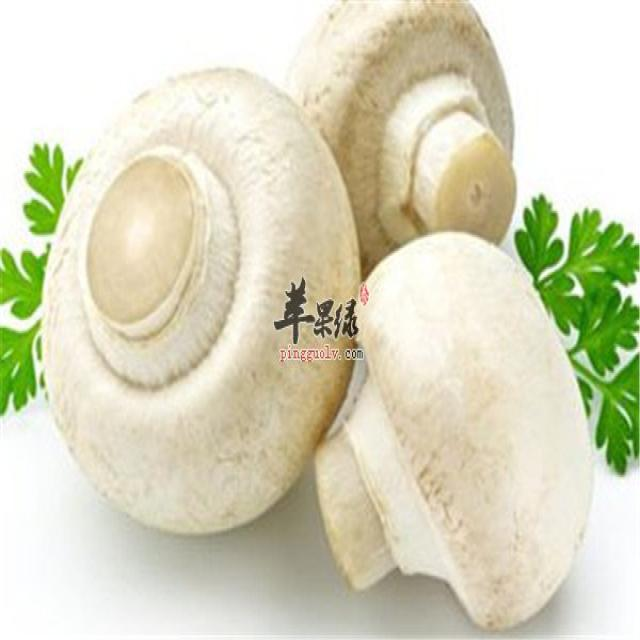Agaricus bisporus: (47, 73, 361, 545), (318, 234, 594, 630), (289, 0, 516, 254)
